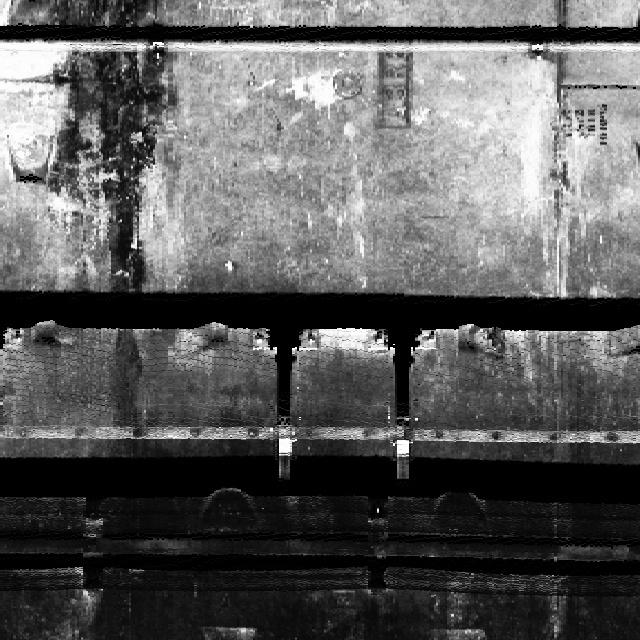leakage: (7, 0, 181, 290), (103, 317, 142, 432)
